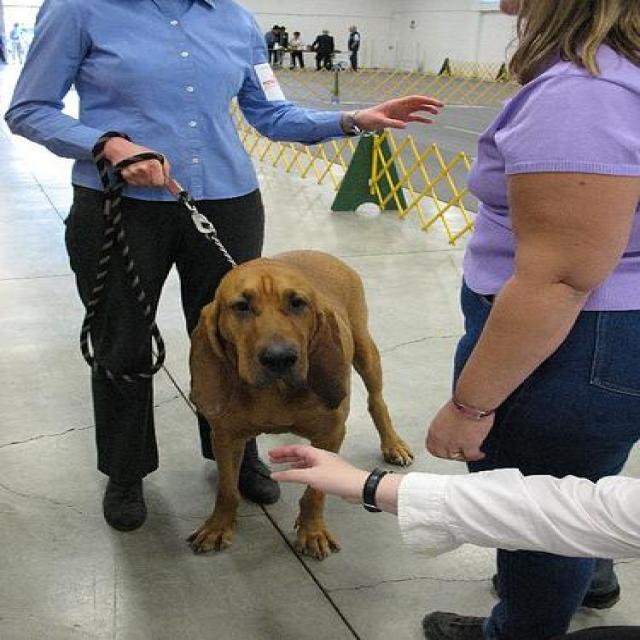bloodhound: (179, 247, 413, 559)
